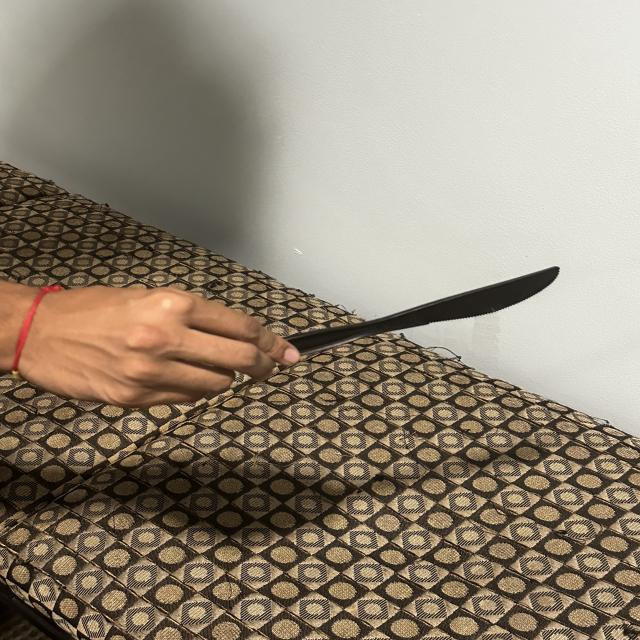knife: (248, 249, 576, 377)
